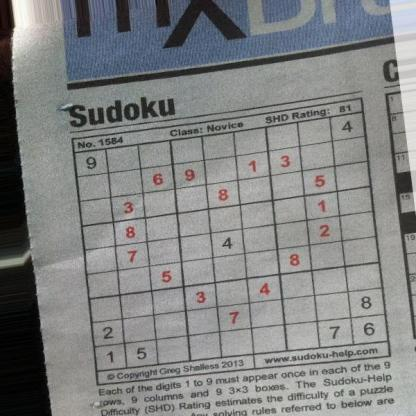sudoku: (72, 108, 392, 374)
